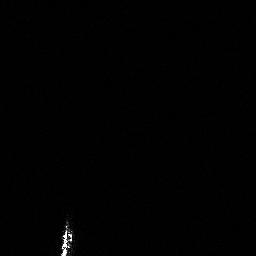ship: (58, 219, 74, 256)
